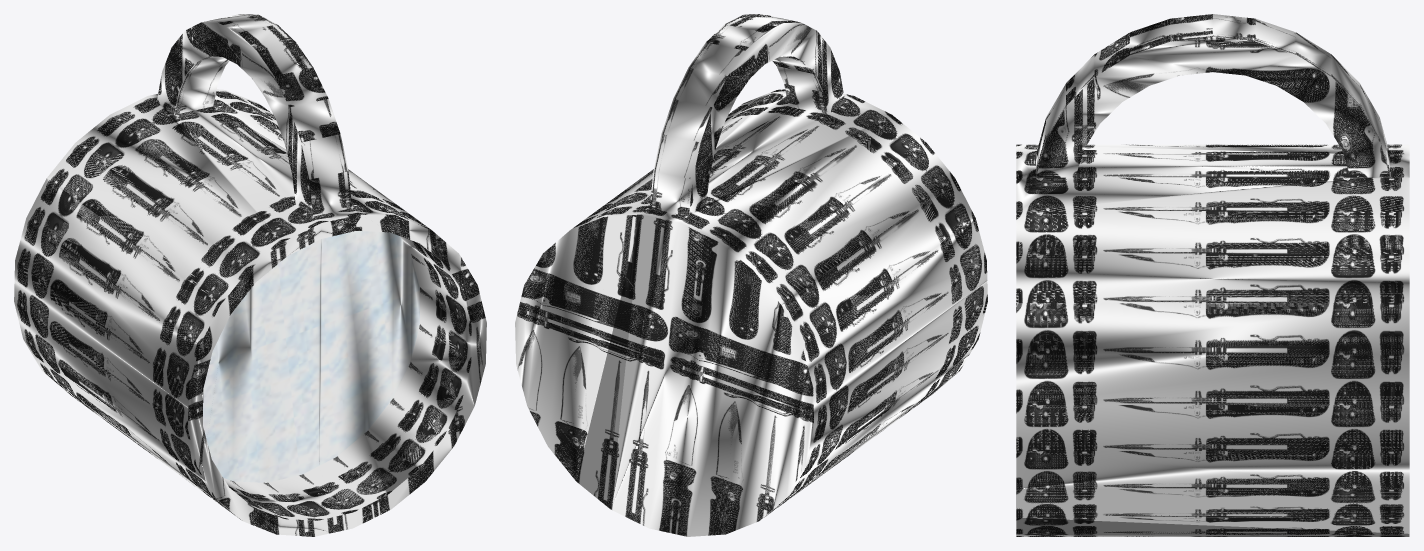
Rendered from model_align.obj.
The picture shows the model from 3 angles, left to right: view 1: azimuth 30°, elevation 25°; view 2: azimuth 150°, elevation 25°; view 3: azimuth 270°, elevation 25°; orthographic projection. The views are drawn at different scales.
Size of the model in its own units: 0.0817 by 0.1146 by 0.0822.
